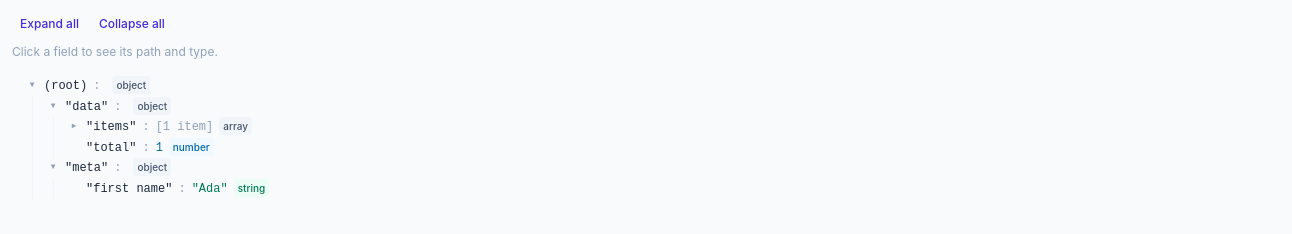
Test: JsonTreeView › AN-03: expands and collapses a node
The width and height of the screenshot is (1292, 234).
Click the button named "Expand \"items\"".
click(74, 127)  # box [66, 117, 82, 136]
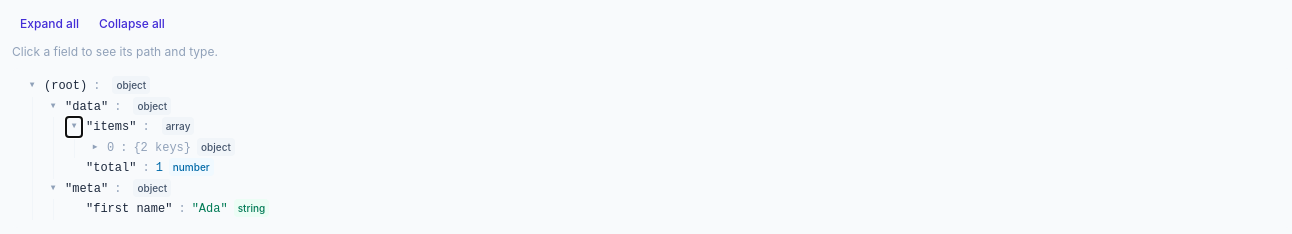
Expected: the list item "0" is shown, [83, 138, 1284, 158]
Click the button named "Collapse \"items\"".
click(74, 127)  # box [66, 117, 82, 136]
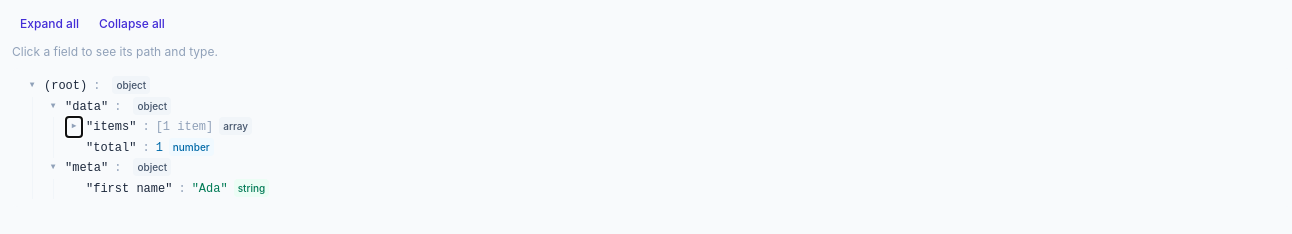
Expected: the button "0" is gone
